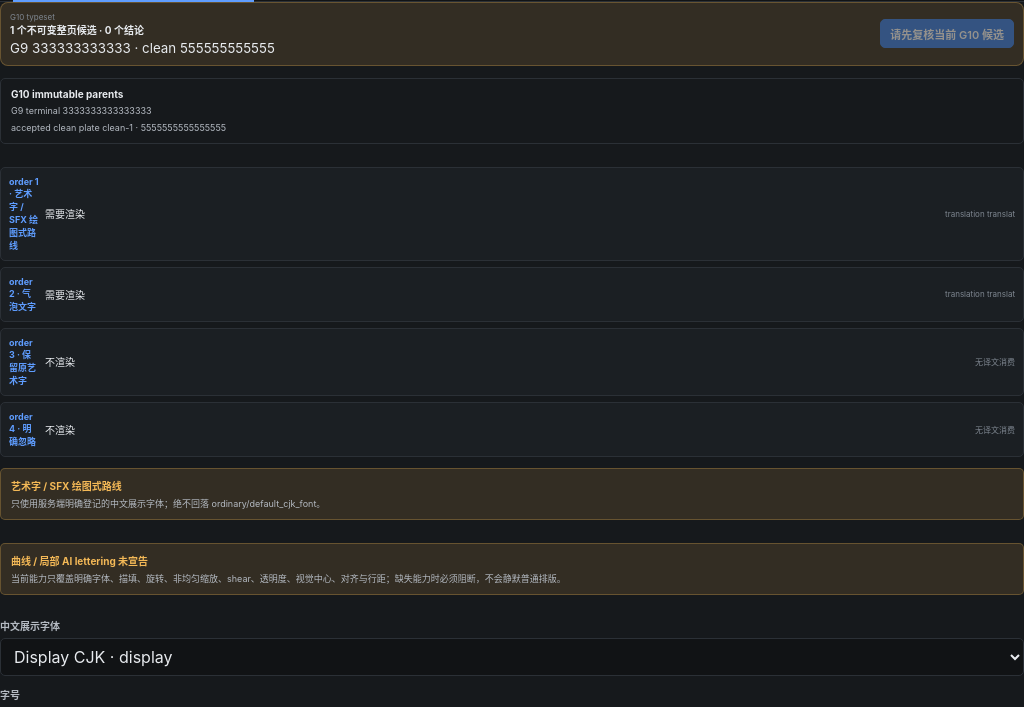
Test case: G10 typeset Inspector › shows explicit mixed routes, excludes ruby, and exposes only route-supported style controls
Expected: the text "艺术字 / SFX 绘图式路线" is shown, [11,480,122,492]
Expected: the text "曲线 / 局部 AI lettering 未宣告" is shown, [11,555,148,567]
Step 1. Click the button with aria-label "选择 G10 route dialogue" → (65, 295), box [0,267,1023,322]
(page scrolled)
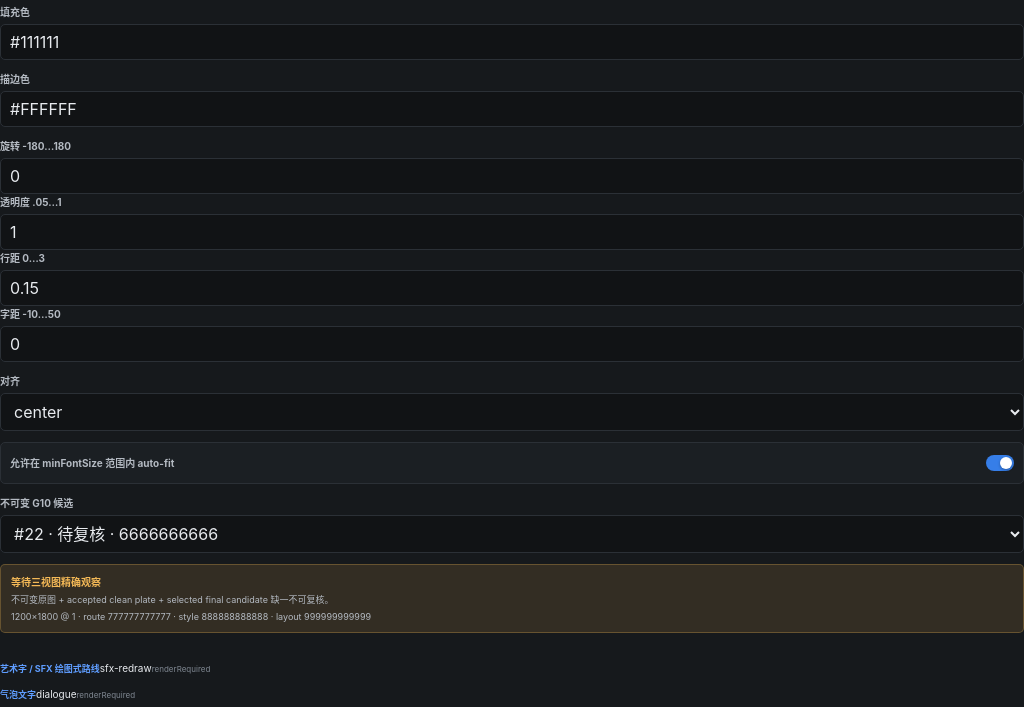
Expected: the number field named "G10 letter spacing" is shown, [0,326,1023,362]
